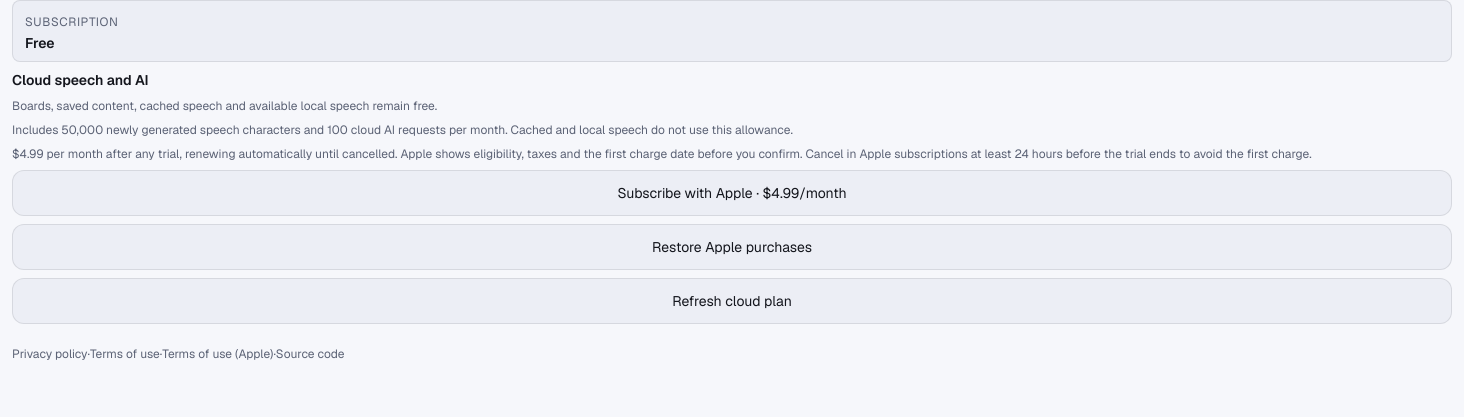
Test case: cloud plan funnel telemetry › still reports Ask to Buy as pending, with its own wording
Click the button "Subscribe with Apple · $4.99/month" at (732, 193), box x1=12 y1=170 x2=1452 y2=216
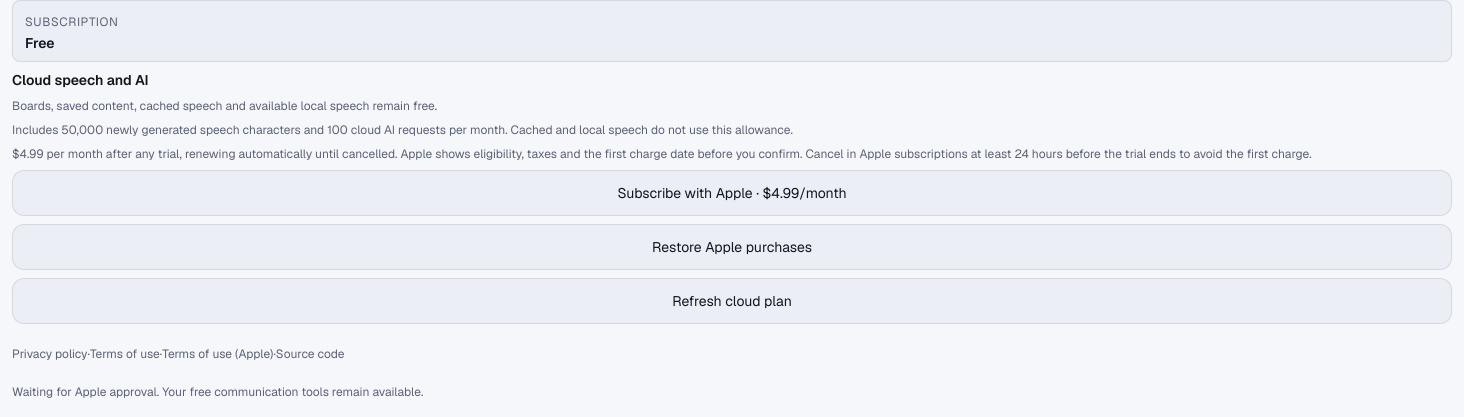
Expected: the text "Waiting for Apple approval. Your free communication tools remain available." is shown, x1=12 y1=384 x2=423 y2=400
